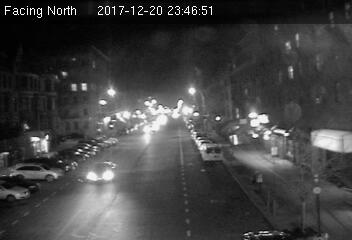car: (85, 158, 118, 182)
truck: (201, 143, 222, 162)
